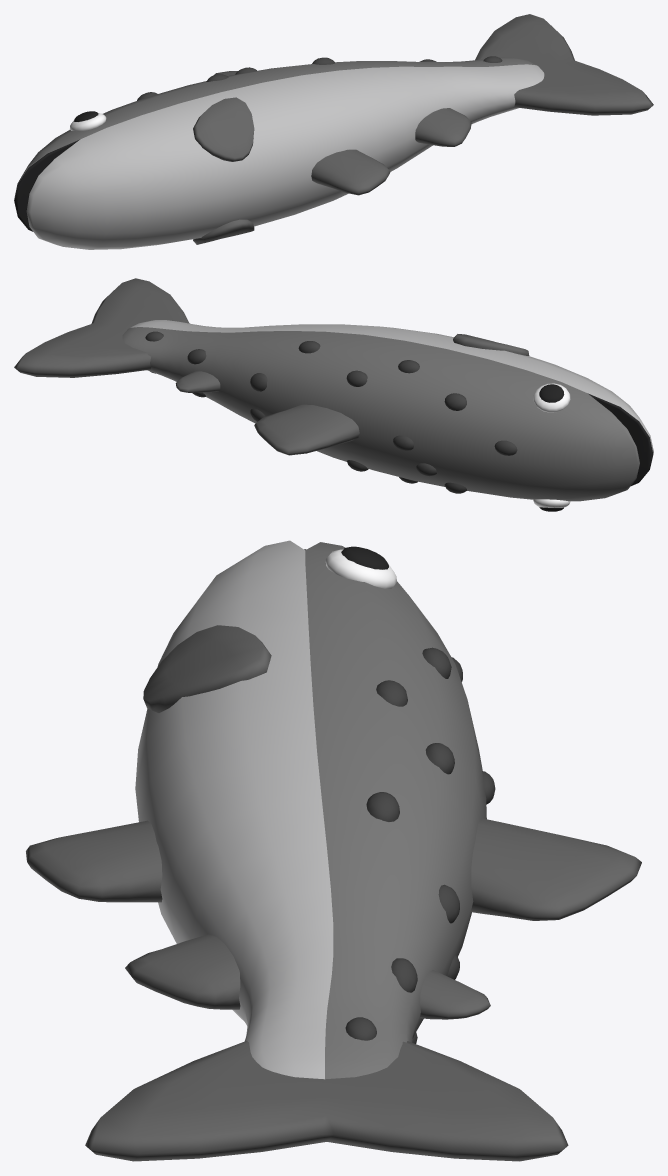
File: Salmon_1.fbx
3 renders of one model, top to bottom at view 1: azimuth 30°, elevation 25°; view 2: azimuth 150°, elevation 25°; view 3: azimuth 270°, elevation 25°, orthographic. The views are drawn at different scales.
Visible parts, largest first — view 1: Salmon_1; view 2: Salmon_1; view 3: Salmon_1.
Part boxes in pixels (x1,y1,x2,y2): Salmon_1: [14, 14, 653, 249]; Salmon_1: [14, 278, 653, 511]; Salmon_1: [26, 540, 641, 1161].
Bounding box in the file's own units: 100 × 22.37 × 46.81.
